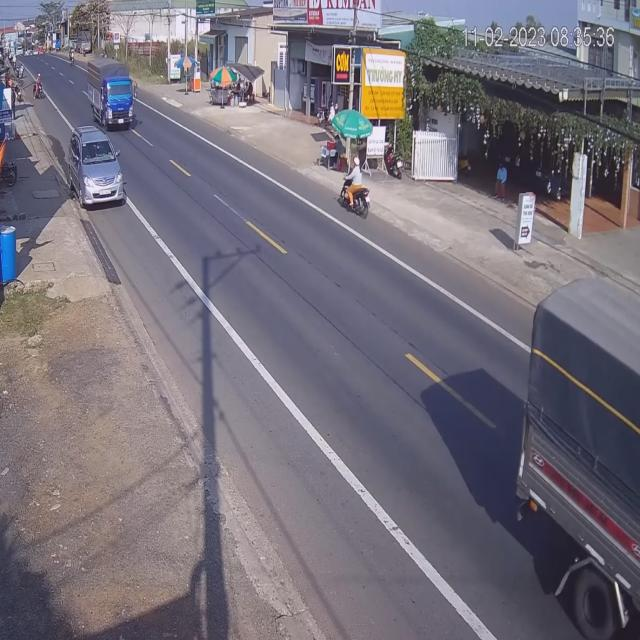car: (69, 124, 125, 208)
motorbike: (340, 164, 371, 218), (32, 72, 42, 101)
truck: (517, 271, 639, 639), (87, 59, 134, 132)
